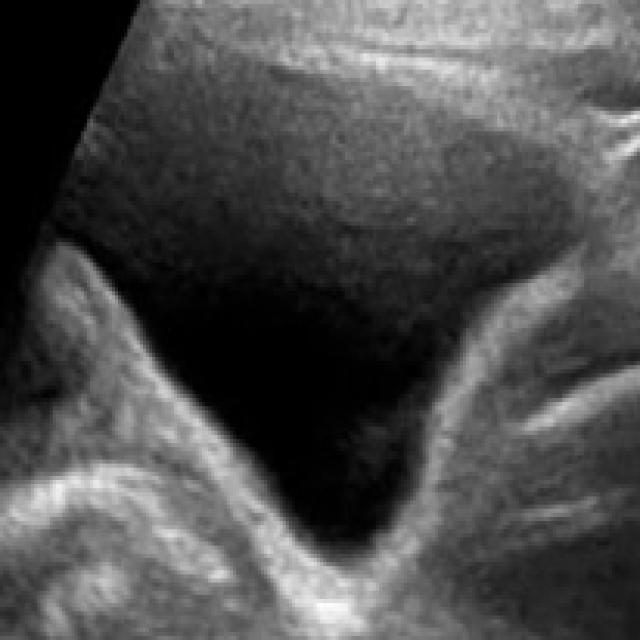bladder: (46, 16, 600, 603)
